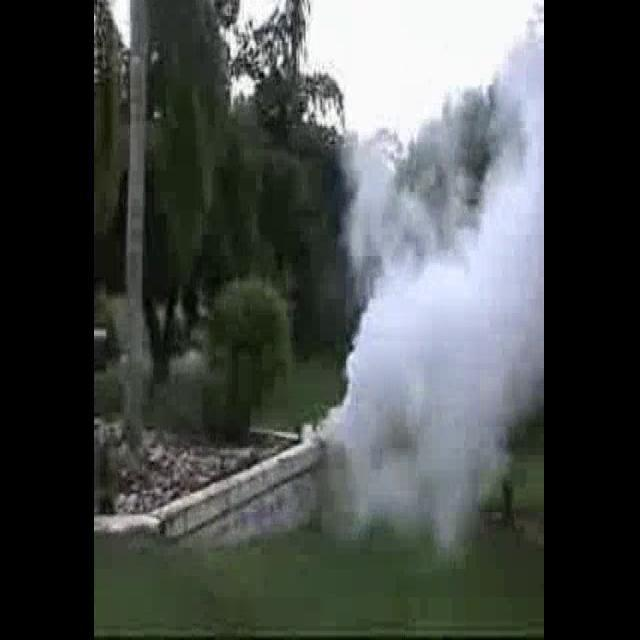Smoke: (317, 0, 545, 543)
